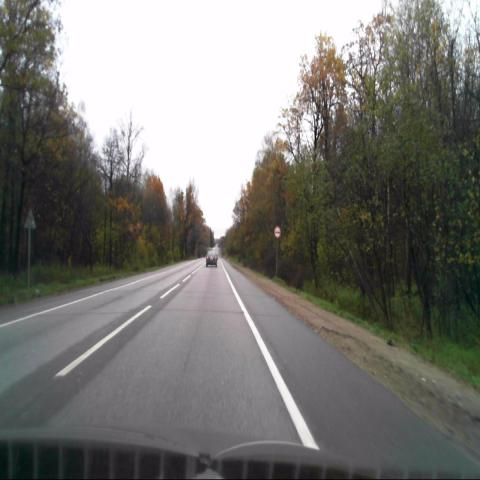3_20: (273, 226, 280, 238)
